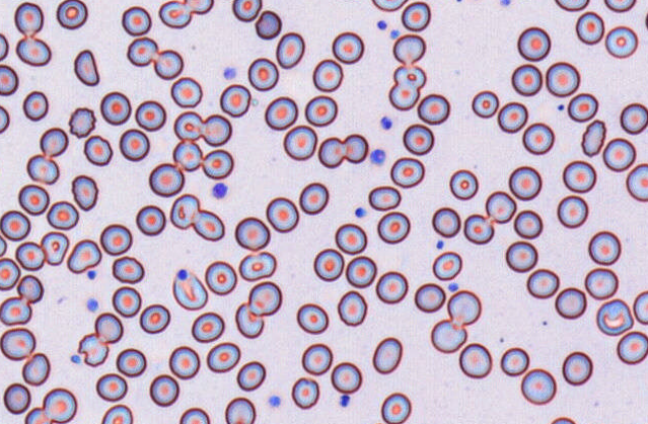PLT: (211, 181, 230, 201), (369, 147, 387, 167), (85, 297, 100, 313), (379, 114, 394, 130), (222, 66, 238, 81), (337, 393, 351, 408), (176, 268, 189, 282), (388, 27, 402, 40), (354, 206, 369, 218), (269, 395, 282, 408), (70, 352, 82, 366), (447, 280, 461, 292), (375, 18, 388, 30), (434, 238, 445, 250), (87, 269, 98, 280), (500, 0, 513, 9)
RBC: (171, 268, 208, 310), (596, 298, 633, 335), (520, 367, 556, 405), (430, 318, 467, 353), (148, 162, 184, 197), (42, 387, 77, 423), (282, 124, 317, 160), (247, 280, 282, 316), (234, 216, 270, 251), (545, 61, 580, 97), (447, 289, 481, 326), (265, 196, 299, 232), (458, 342, 492, 378), (508, 165, 542, 200), (517, 26, 551, 61), (264, 96, 298, 130), (562, 159, 596, 193), (602, 137, 636, 171), (0, 327, 35, 360), (204, 260, 237, 295), (588, 230, 621, 265), (275, 31, 305, 69), (238, 251, 276, 281), (372, 336, 402, 374), (604, 25, 638, 58), (376, 211, 410, 244), (375, 270, 408, 304), (169, 193, 200, 229), (15, 35, 51, 66), (331, 31, 364, 64), (392, 33, 426, 65), (219, 83, 251, 117), (556, 194, 588, 228), (247, 57, 279, 91), (390, 156, 424, 188), (584, 267, 618, 299), (168, 345, 200, 379), (99, 91, 131, 125), (206, 341, 240, 373), (337, 290, 367, 326), (304, 94, 337, 126), (99, 223, 132, 255), (330, 361, 362, 394), (554, 286, 586, 319), (312, 58, 343, 92), (616, 330, 647, 364), (562, 351, 593, 385), (14, 1, 44, 36), (192, 209, 224, 241), (170, 76, 202, 108), (134, 99, 166, 131), (402, 123, 434, 155), (17, 183, 49, 215), (522, 122, 554, 154), (505, 240, 537, 272), (296, 302, 328, 334), (201, 113, 232, 146), (26, 153, 59, 184), (485, 190, 516, 223), (511, 63, 542, 96), (417, 93, 450, 124), (298, 181, 329, 214), (313, 248, 344, 281), (334, 223, 367, 254), (118, 128, 149, 161), (301, 342, 332, 375), (345, 255, 376, 288), (191, 311, 224, 342), (71, 174, 98, 211), (201, 148, 233, 179), (497, 101, 528, 133), (135, 204, 166, 236), (46, 200, 79, 230), (526, 268, 559, 298), (21, 352, 50, 386), (40, 231, 69, 265), (580, 119, 606, 156), (0, 295, 31, 326), (463, 213, 494, 244), (139, 303, 170, 334), (380, 392, 411, 423), (172, 139, 202, 171), (126, 36, 158, 66), (0, 209, 30, 241), (111, 285, 141, 317), (448, 168, 478, 200), (149, 374, 179, 406), (575, 11, 604, 44), (55, 0, 88, 29), (111, 255, 144, 284), (158, 0, 192, 28), (153, 48, 183, 79), (173, 110, 203, 141), (121, 5, 151, 36), (414, 282, 445, 312), (567, 92, 598, 122), (432, 250, 462, 281), (236, 360, 266, 391), (115, 347, 146, 377), (94, 312, 123, 344), (95, 372, 127, 401), (83, 134, 112, 166), (291, 376, 319, 409), (513, 209, 543, 239), (39, 126, 68, 157), (431, 206, 460, 237), (68, 106, 96, 138), (3, 382, 31, 414), (619, 102, 647, 134), (401, 1, 430, 31), (15, 241, 45, 270), (500, 346, 529, 376), (388, 82, 419, 110), (318, 136, 345, 168), (224, 396, 256, 423), (625, 163, 647, 201), (393, 64, 426, 89), (368, 185, 401, 210), (254, 9, 281, 39), (22, 90, 48, 121), (471, 90, 499, 118), (16, 274, 43, 303), (343, 133, 368, 163), (231, 0, 262, 22), (0, 257, 20, 290), (100, 403, 133, 423), (0, 64, 18, 95), (632, 290, 647, 325), (179, 407, 210, 423), (24, 406, 51, 423), (371, 0, 407, 11), (185, 0, 213, 14), (554, 0, 589, 11), (604, 0, 636, 12), (0, 104, 10, 133), (0, 32, 9, 61), (550, 416, 576, 423), (0, 234, 7, 257)
Schistocyte: (67, 239, 102, 273), (235, 302, 264, 339), (74, 48, 101, 87), (78, 335, 108, 367)
